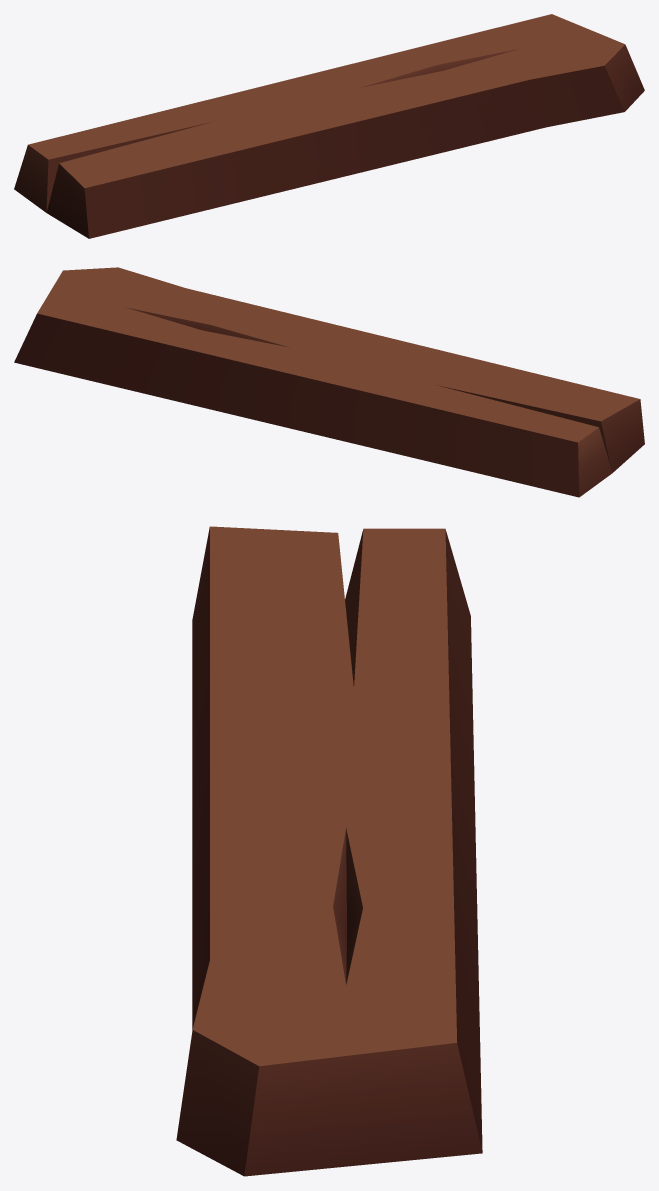
File: Wooden_Plank_1F.fbx
3 renders of one model, top to bottom at view 1: azimuth 30°, elevation 25°; view 2: azimuth 150°, elevation 25°; view 3: azimuth 270°, elevation 25°, orthographic. The views are drawn at different scales.
Visible parts, largest first — view 1: Wooden_Plank_1F; view 2: Wooden_Plank_1F; view 3: Wooden_Plank_1F.
Boxes of the visible parts, bbox=[...] form: Wooden_Plank_1F: bbox=[14, 14, 644, 238]; Wooden_Plank_1F: bbox=[14, 267, 644, 497]; Wooden_Plank_1F: bbox=[176, 526, 482, 1176].
Size of the model in its own units: 190 by 15 by 43.93.
